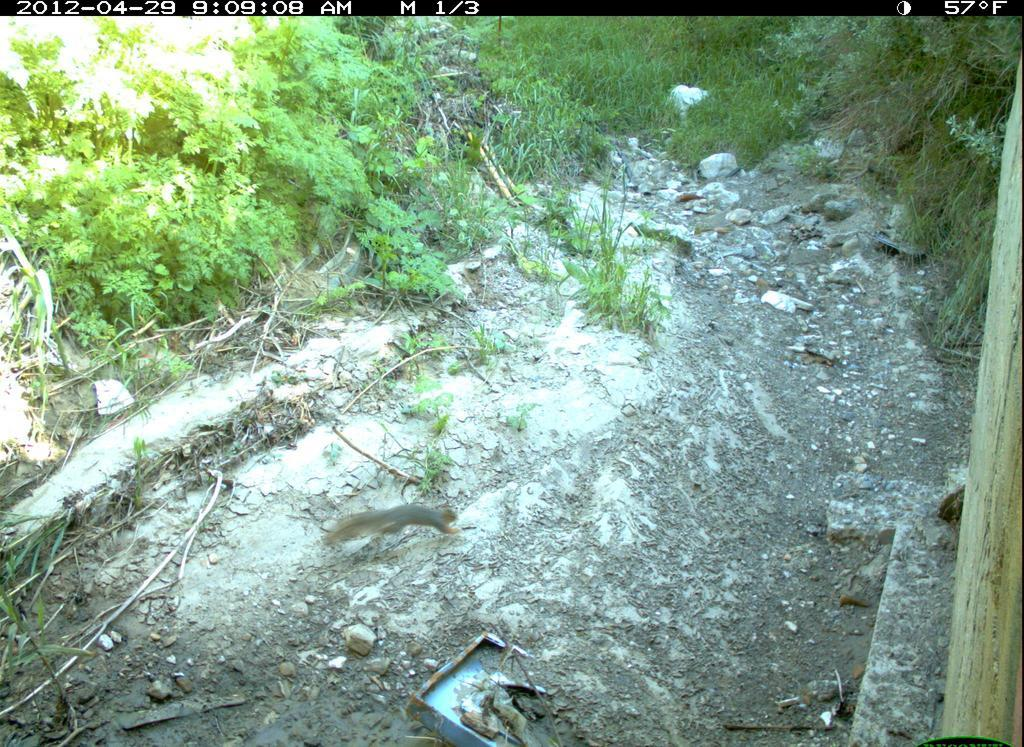squirrel: (315, 493, 469, 561)
